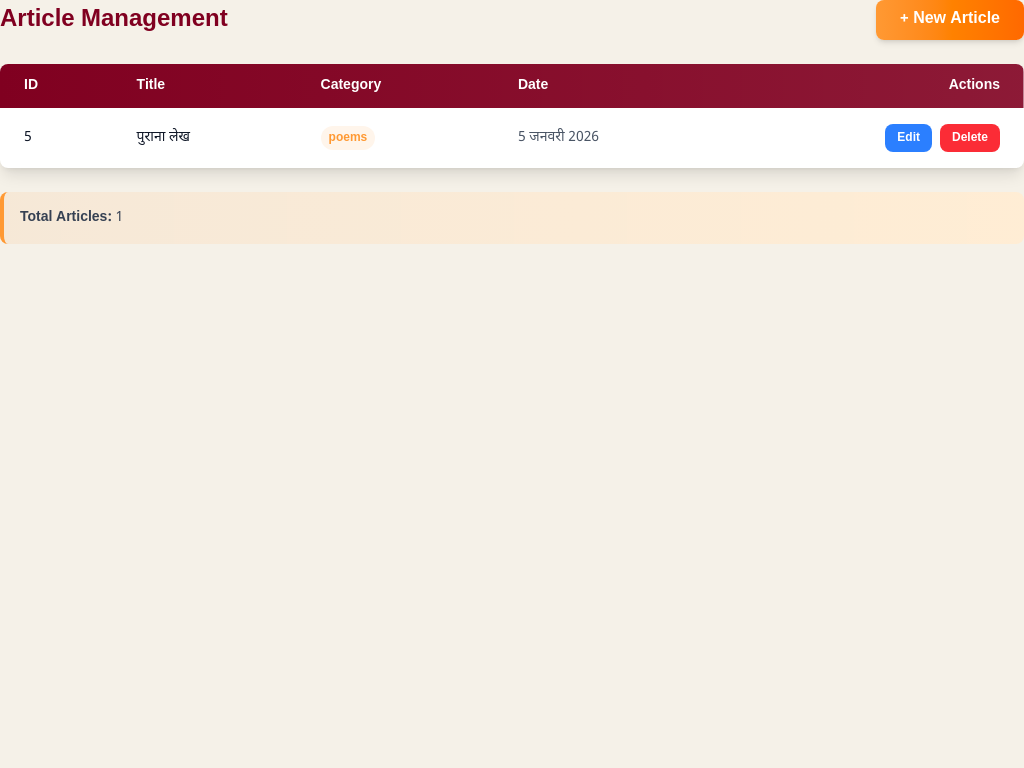
Test: ArticleManager (admin) › shows the error when the database refuses a change
Step 1. Click the button "Edit" → (909, 138), box top-left (885, 124), bottom-right (932, 152)
(page scrolled)
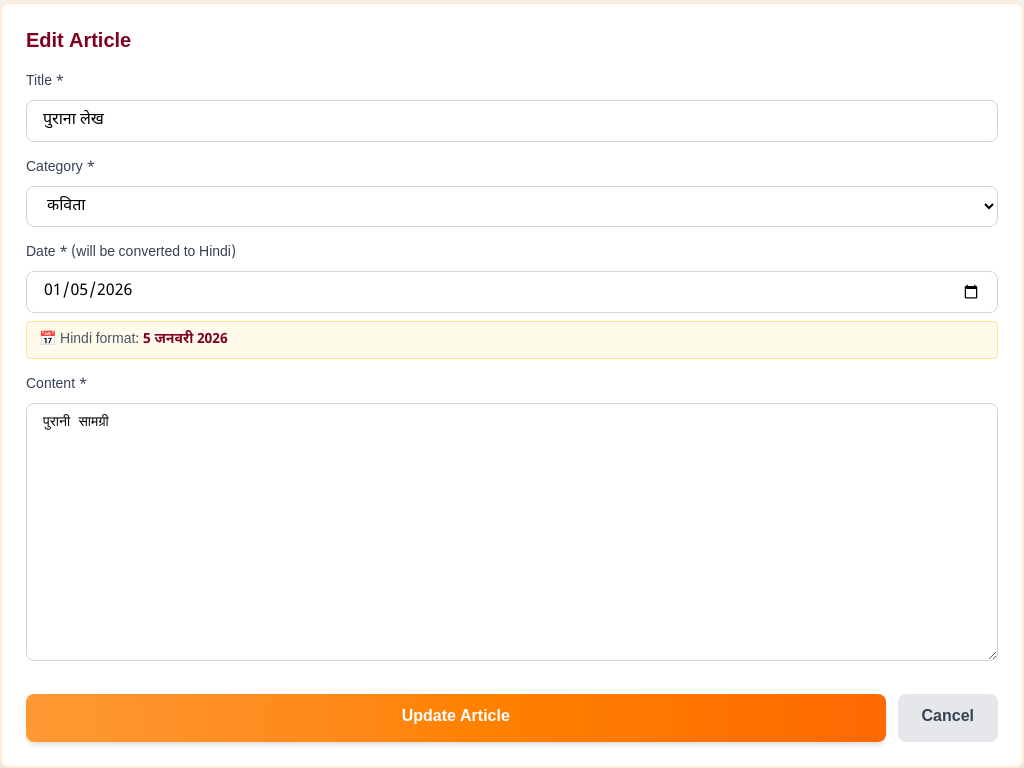
Step 2. Click the button "Update Article" → (456, 718), box top-left (26, 694), bottom-right (886, 742)
(page scrolled)
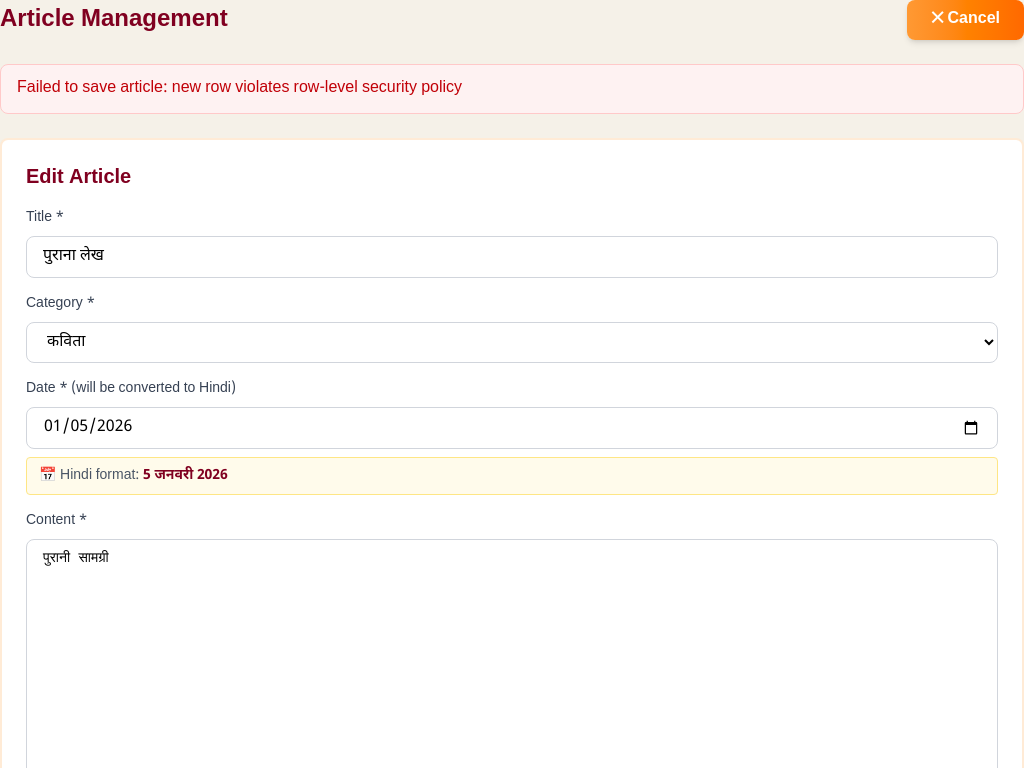
Check: the text "Failed to save article: new row violates row-level security policy" is shown, box top-left (0, 64), bottom-right (1023, 114)
